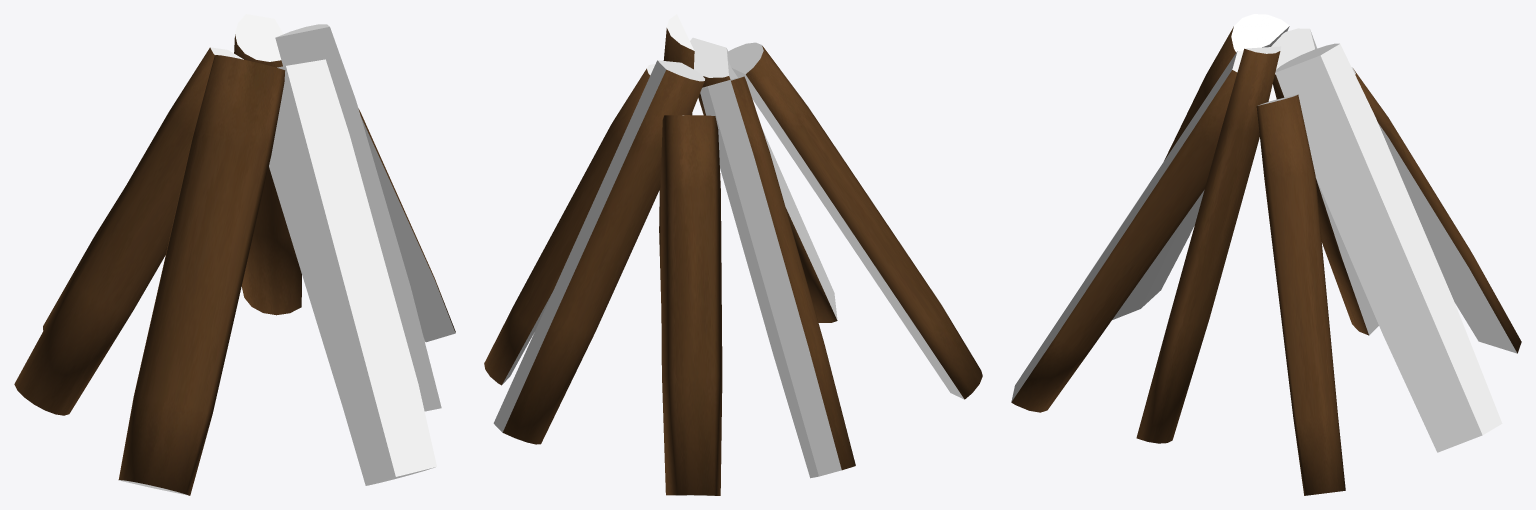
File: Campfire_Teepee.glb
The picture shows the model from 3 angles, left to right: view 1: azimuth 30°, elevation 25°; view 2: azimuth 150°, elevation 25°; view 3: azimuth 270°, elevation 25°; orthographic projection. The views are drawn at different scales.
Visible parts, largest first — view 1: Cylinder.109_Cylinder.128, Cylinder.107_Cylinder.126, Cylinder.108_Cylinder.127, Cylinder.102_Cylinder.121, Cylinder.111_Cylinder.130, Cylinder.110_Cylinder.129; view 2: Cylinder.106_Cylinder.125, Cylinder.111_Cylinder.130, Cylinder.108_Cylinder.127, Cylinder.109_Cylinder.128, Cylinder.110_Cylinder.129, Cylinder.107_Cylinder.126, Cylinder.102_Cylinder.121; view 3: Cylinder.111_Cylinder.130, Cylinder.110_Cylinder.129, Cylinder.107_Cylinder.126, Cylinder.102_Cylinder.121, Cylinder.106_Cylinder.125, Cylinder.109_Cylinder.128, Cylinder.108_Cylinder.127.
Boxes of the visible parts, x1,y1,x2,y2 form: Cylinder.109_Cylinder.128: (118,55,285,495); Cylinder.107_Cylinder.126: (269,59,436,485); Cylinder.108_Cylinder.127: (14,47,243,415); Cylinder.102_Cylinder.121: (275,24,441,411); Cylinder.111_Cylinder.130: (234,14,301,315); Cylinder.110_Cylinder.129: (358,108,455,342); Cylinder.106_Cylinder.125: (660,115,722,495); Cylinder.111_Cylinder.130: (493,60,704,444); Cylinder.108_Cylinder.127: (700,76,855,478); Cylinder.109_Cylinder.128: (727,42,982,399); Cylinder.110_Cylinder.129: (484,64,655,385); Cylinder.107_Cylinder.126: (690,37,837,322); Cylinder.102_Cylinder.121: (659,14,694,302); Cylinder.111_Cylinder.130: (1275,43,1502,452); Cylinder.110_Cylinder.129: (1256,94,1345,495); Cylinder.107_Cylinder.126: (1011,51,1243,412); Cylinder.102_Cylinder.121: (1136,46,1281,443); Cylinder.106_Cylinder.125: (1351,67,1521,353); Cylinder.109_Cylinder.128: (1112,14,1289,319); Cylinder.108_Cylinder.127: (1271,28,1378,335).
Size of the model in its own units: 0.9331 by 0.8185 by 0.9844.
3 materials, 1 textured.
